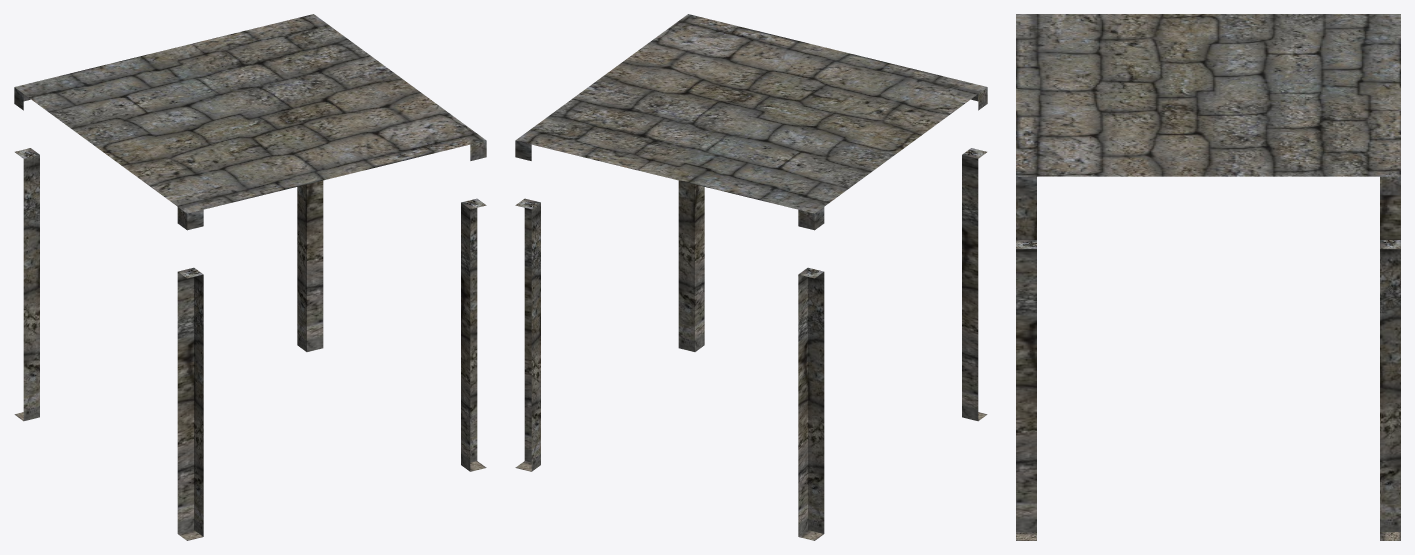
Rendered from Fort_10101010.gltf.
3 renders of one model, left to right at view 1: azimuth 30°, elevation 25°; view 2: azimuth 150°, elevation 25°; view 3: azimuth 270°, elevation 25°, orthographic. The views are drawn at different scales.
Visible parts, largest first — view 1: Claimed_10101010; view 2: Claimed_10101010; view 3: Claimed_10101010.
Boxes of the visible parts, box(x1,y1,x2,y2) form: Claimed_10101010: box(14, 14, 486, 540); Claimed_10101010: box(515, 14, 987, 540); Claimed_10101010: box(1016, 14, 1400, 540).
Bounding box in the file's own units: 2.5 × 2.61 × 2.5.
Materials: 1 (1 with a texture image).
